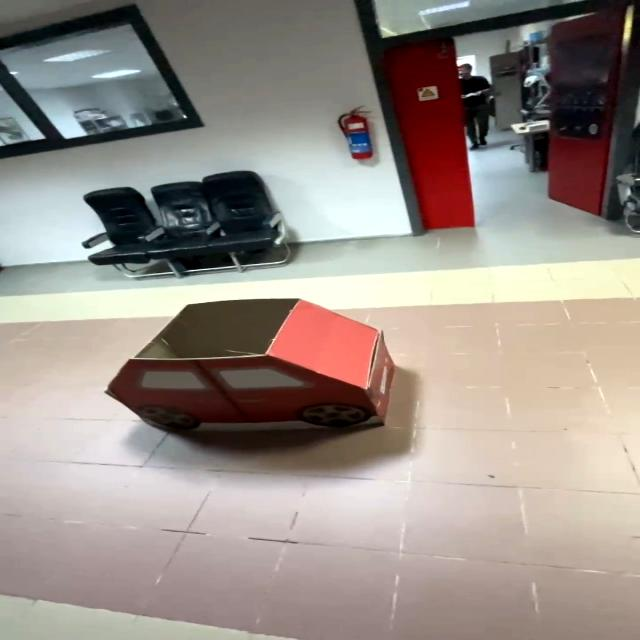red_car: (89, 293, 423, 454)
